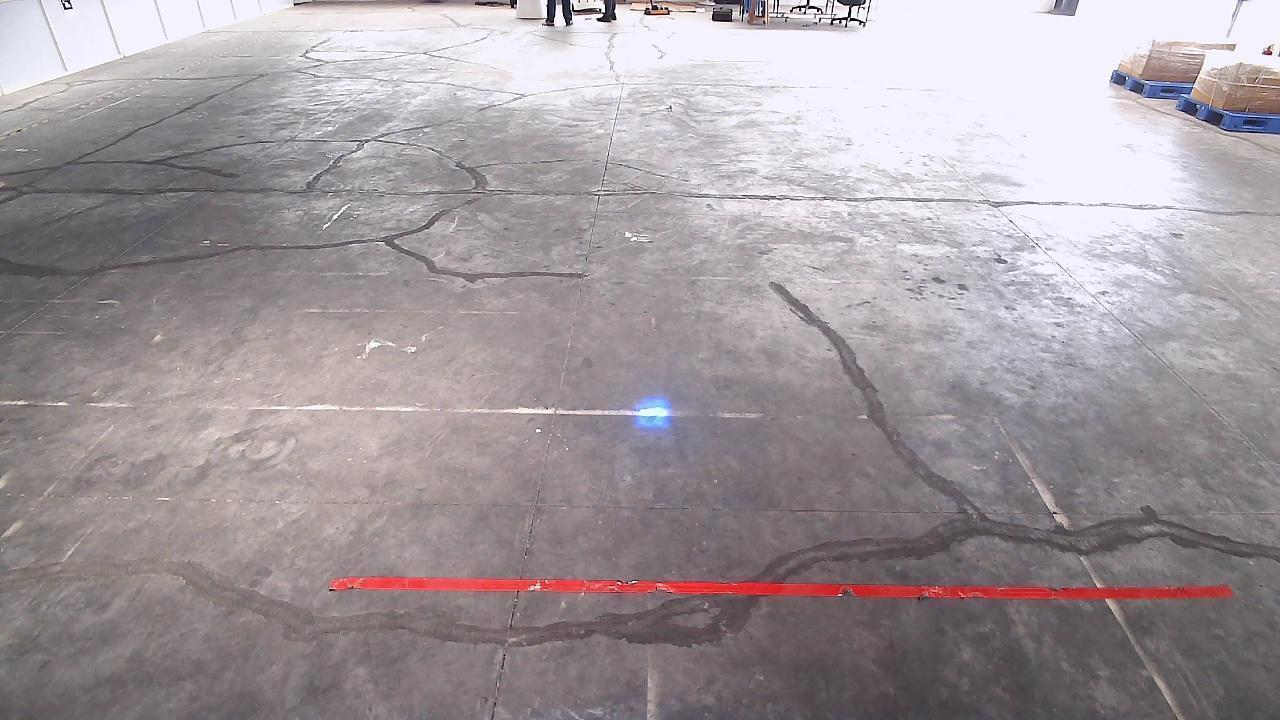red_line: (328, 576, 1234, 598)
